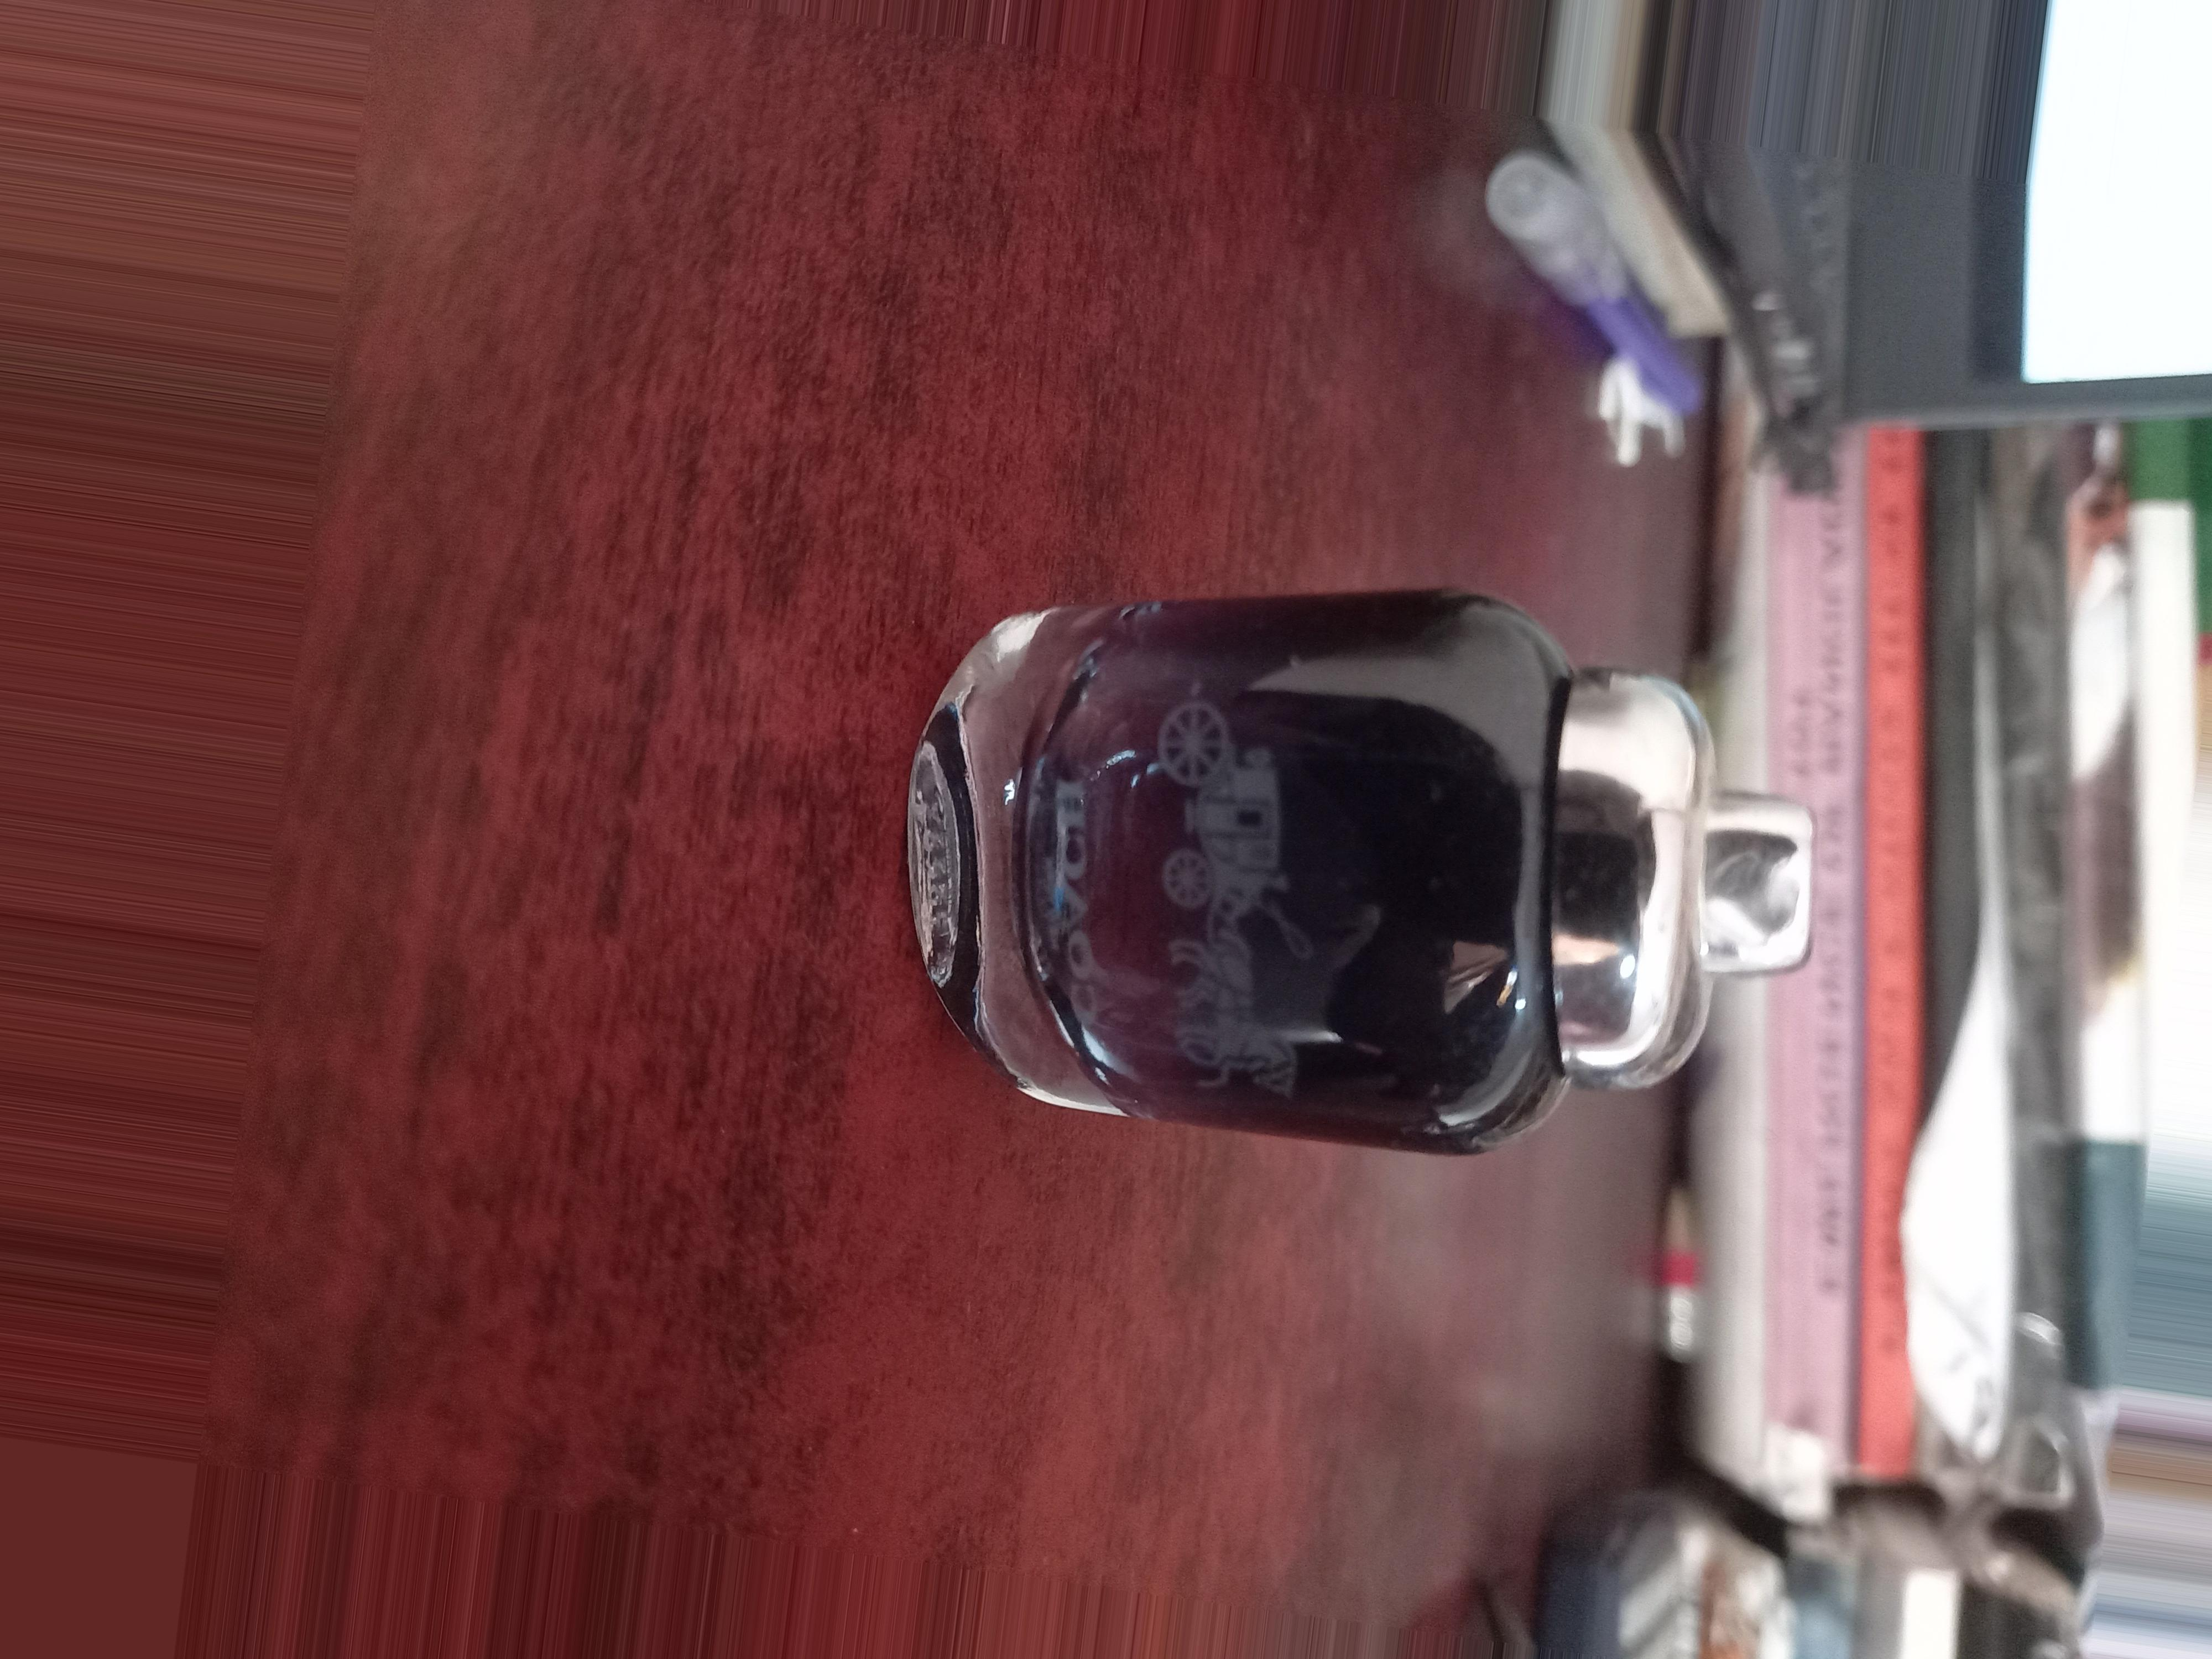perfume: (932, 589, 1811, 1236)
